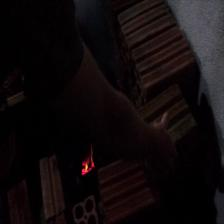fire: (78, 146, 97, 176)
